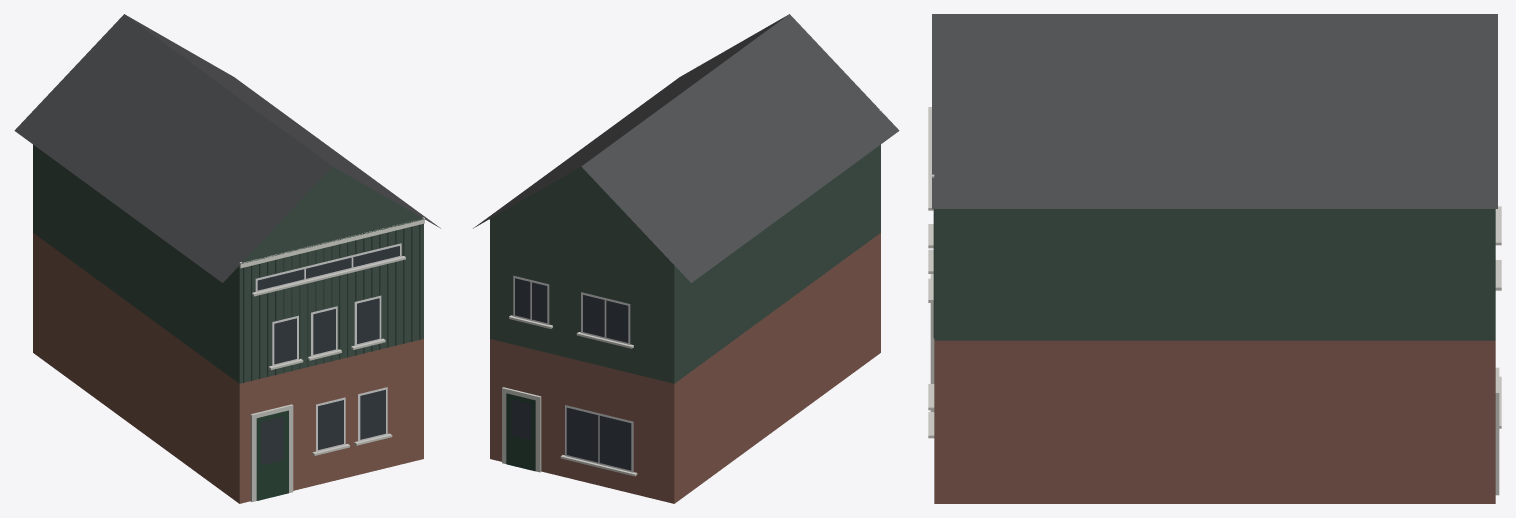
Rendered from nw-ao-hebriden-clad__green__2__gable__short__solid.glb.
3 renders of one model, left to right at view 1: azimuth 30°, elevation 25°; view 2: azimuth 150°, elevation 25°; view 3: azimuth 270°, elevation 25°, orthographic. The views are drawn at different scales.
Parts seen in each view (by area): view 1: nw-ao-hebriden-clad__green__2__gable__short__solid; view 2: nw-ao-hebriden-clad__green__2__gable__short__solid; view 3: nw-ao-hebriden-clad__green__2__gable__short__solid.
Part boxes in pixels (box(x1,y1,x2,y2)): nw-ao-hebriden-clad__green__2__gable__short__solid: box(14, 14, 440, 503); nw-ao-hebriden-clad__green__2__gable__short__solid: box(473, 14, 899, 503); nw-ao-hebriden-clad__green__2__gable__short__solid: box(928, 14, 1501, 503).
Bounding box in the file's own units: 6.8 × 9.33 × 11.3.
